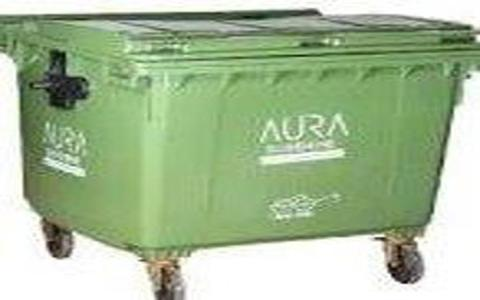Proper garbage: (1, 2, 469, 290)
